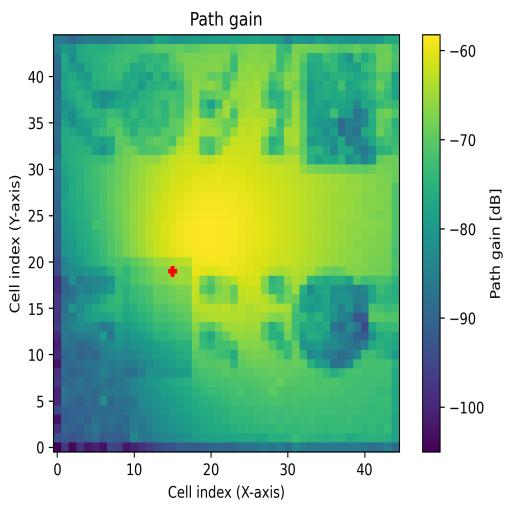Concrete: (301, 52, 377, 164)
Glass: (121, 54, 192, 154)
Metal: (286, 266, 377, 368)
Wood: (123, 257, 193, 379)
